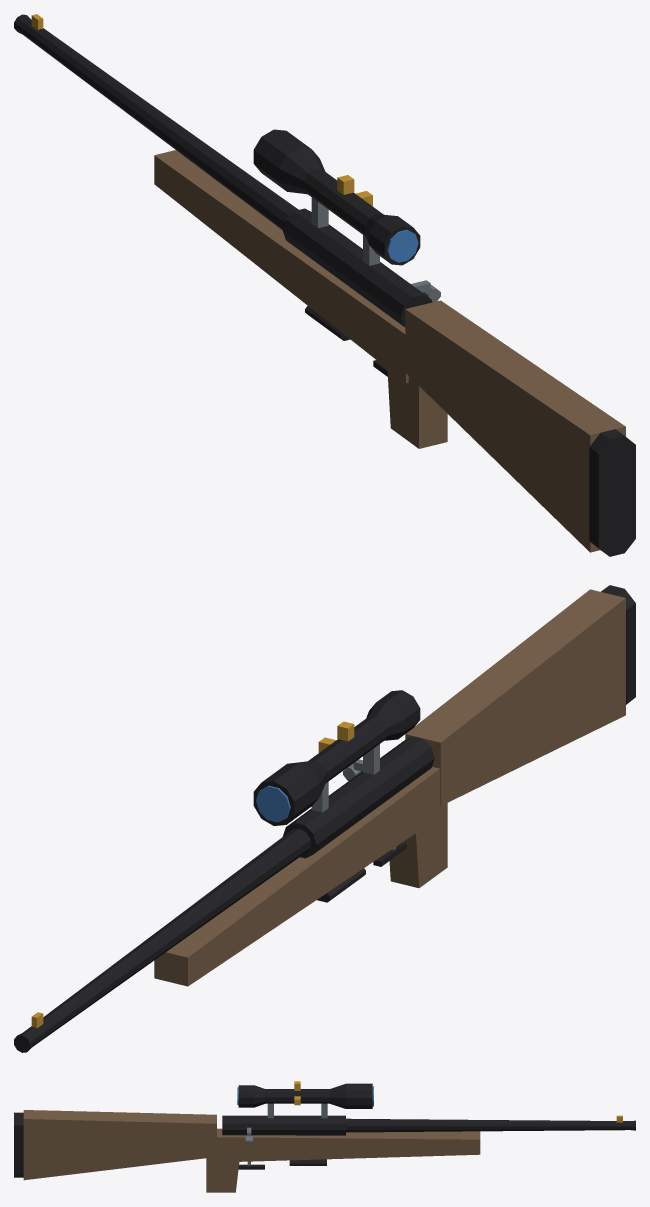
Rendered from hunting_rifle.glb.
3 renders of one model, top to bottom at view 1: azimuth 30°, elevation 25°; view 2: azimuth 150°, elevation 25°; view 3: azimuth 270°, elevation 25°, orthographic. The views are drawn at different scales.
Visible parts, largest first — view 1: hunting_rifle; view 2: hunting_rifle; view 3: hunting_rifle.
Part boxes in pixels (x1,y1,x2,y2): hunting_rifle: (14,14,635,556); hunting_rifle: (14,585,635,1052); hunting_rifle: (14,1081,635,1192).
Bounding box in the file's own units: 0.0738 × 0.218 × 1.16.
Materials: 1 (1 with a texture image).
